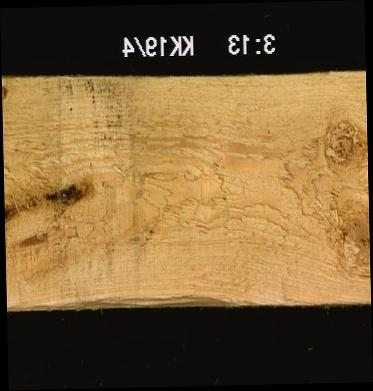dry_knot: (1, 83, 8, 101)
sound_knot: (315, 182, 368, 283), (321, 116, 366, 171)
wave: (5, 277, 258, 309)
